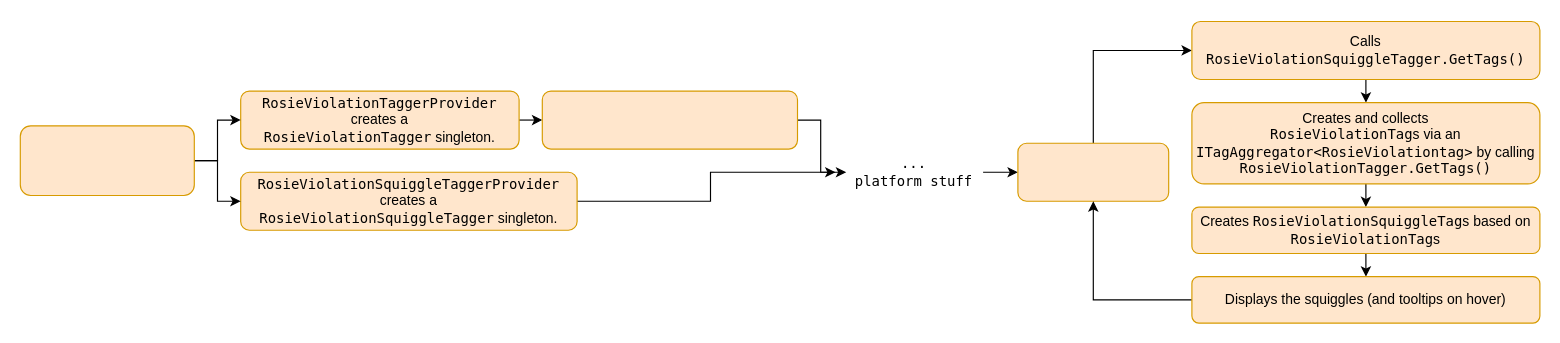
Image size: 1560x343. Some labels were removed from this diagram. The shapes that lost their labels are listed below. From the top down, each one's centre as x and y in pixels, then its label:
point 669,119: During instantiation: calls initial RosieClient.GetAnnotations()
point 106,160: VS initializes IViewTaggerProvider MEF components
point 1093,171: VS iterates over one or more text spans in a text buffer
